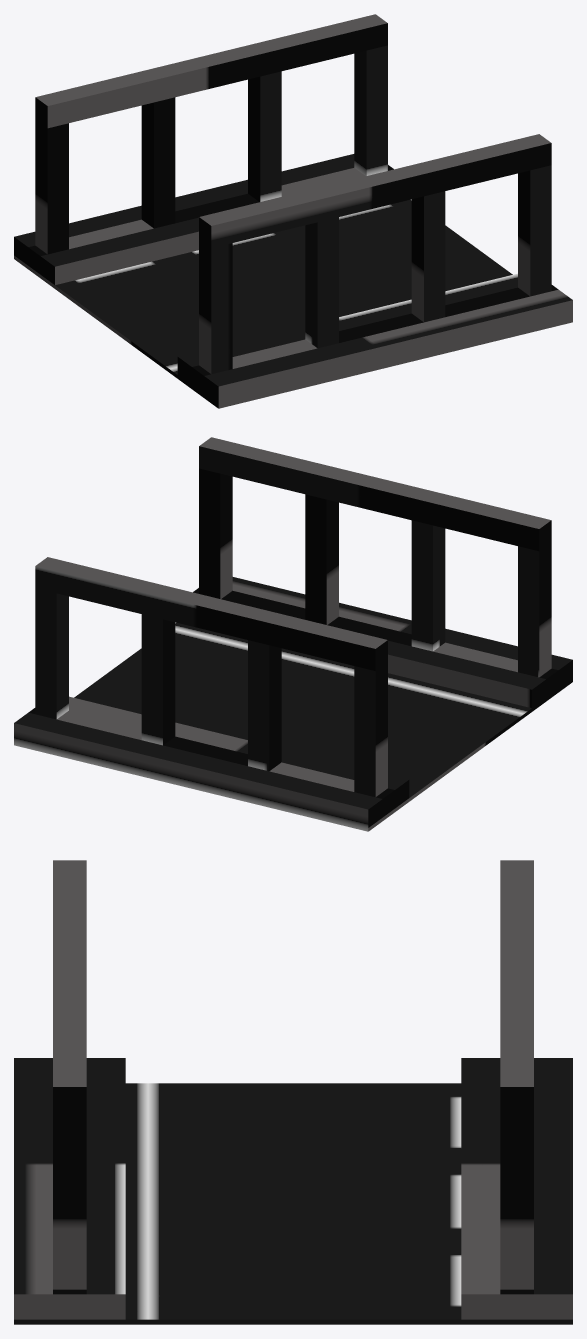
The model's file is Puente1.fbx.
3 views of the same model, one above another, from view 1: azimuth 30°, elevation 25°; view 2: azimuth 150°, elevation 25°; view 3: azimuth 270°, elevation 25° (orthographic). The views are drawn at different scales.
Visible parts, largest first — view 1: Puente1; view 2: Puente1; view 3: Puente1.
Part boxes in pixels (left/top/right/bottom): Puente1: left=14, top=14, right=572, bottom=408; Puente1: left=14, top=437, right=572, bottom=831; Puente1: left=14, top=860, right=572, bottom=1324.
Size of the model in its own units: 100 by 46 by 100.
